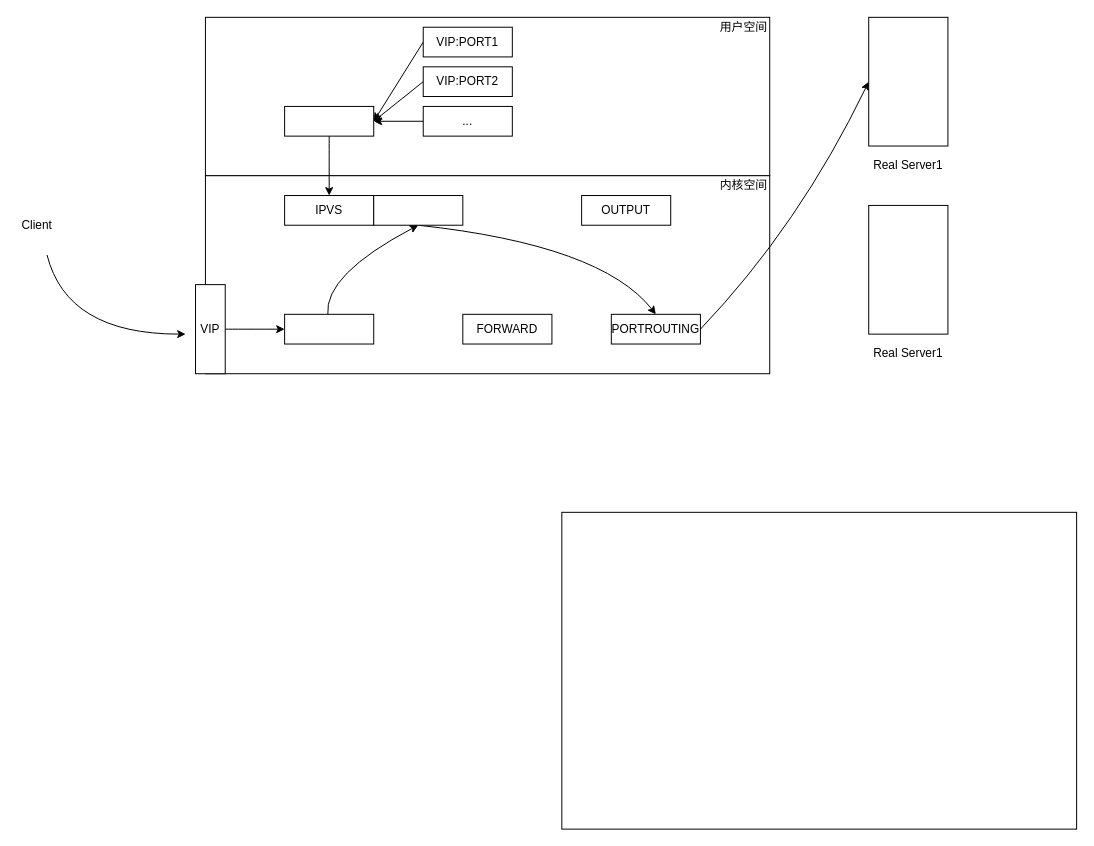
This 1094x846 diagram has some shape labels left out. The shapes that lost their labels are listed below. From the top down, each one's centre as x and y in pixels, then its label:
At [329,120]: "ipvsadm".
At [418,210]: "INPUT".
At [329,328]: "PREROUTING".
